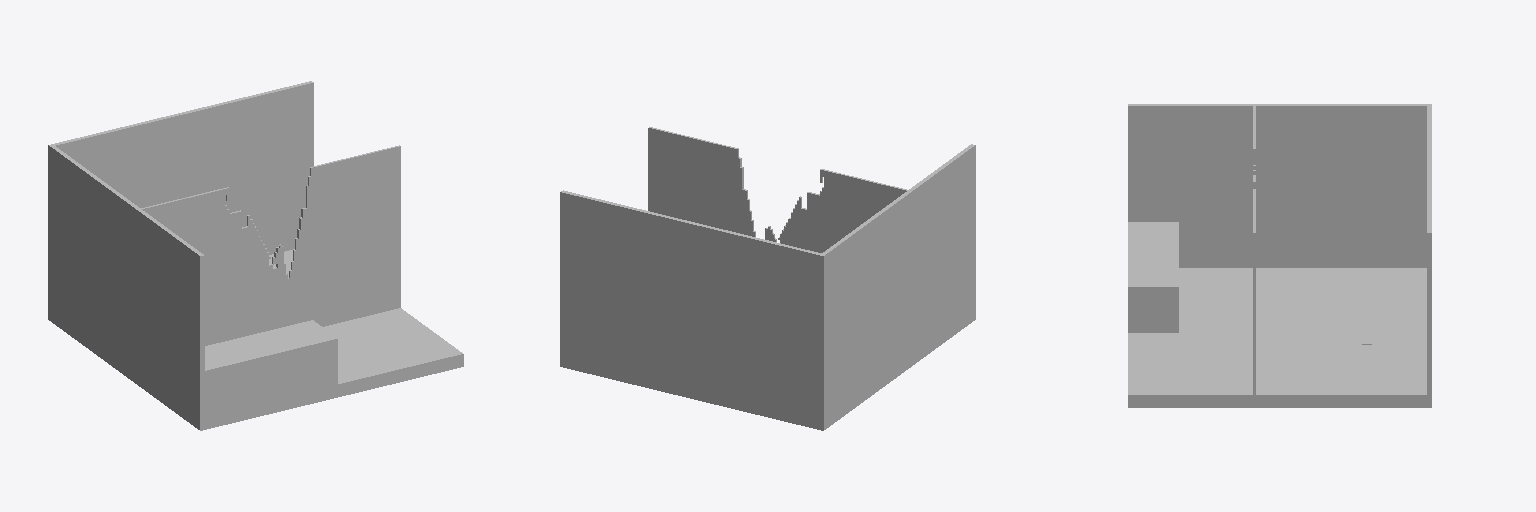
The model's file is 2x2first (2)-2.obj.
3 renders of one model, left to right at view 1: azimuth 30°, elevation 25°; view 2: azimuth 150°, elevation 25°; view 3: azimuth 270°, elevation 25°, orthographic.
Parts seen in each view (by area): view 1: 2x2first (2)-2; view 2: 2x2first (2)-2; view 3: 2x2first (2)-2.
Part boxes in pixels (x1,y1,x2,y2): 2x2first (2)-2: (48, 81, 463, 430); 2x2first (2)-2: (560, 127, 975, 430); 2x2first (2)-2: (1128, 104, 1431, 407).
Size of the model in its own units: 126 by 80 by 126.